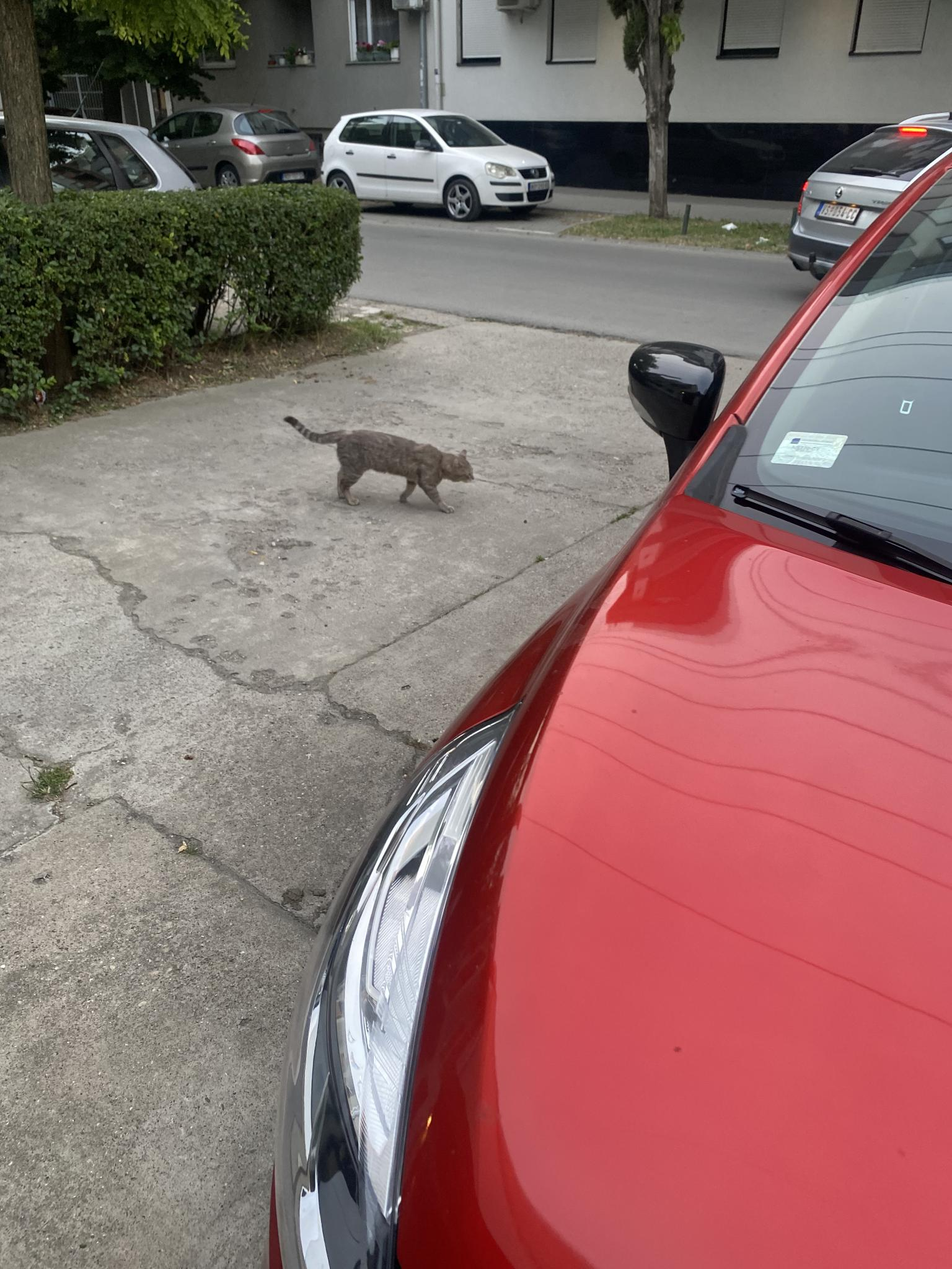macka: (285, 417, 475, 515)
